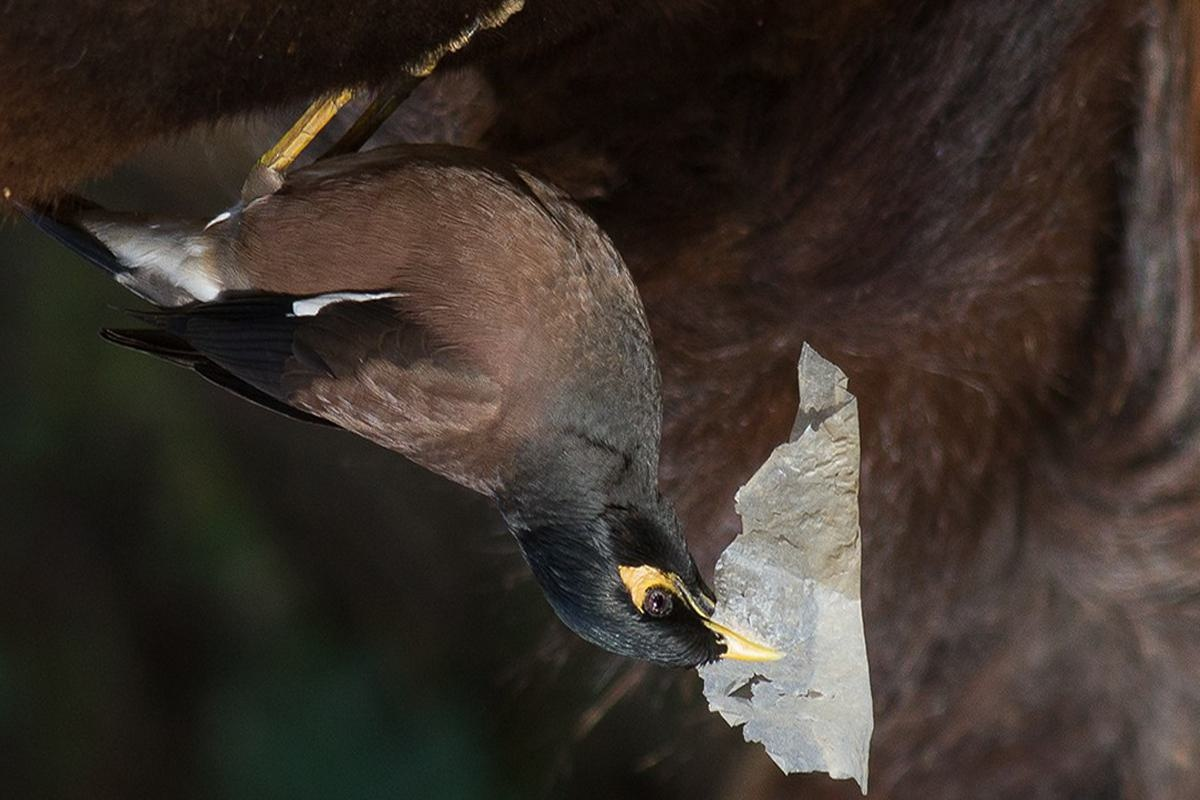myna: (46, 48, 790, 692)
